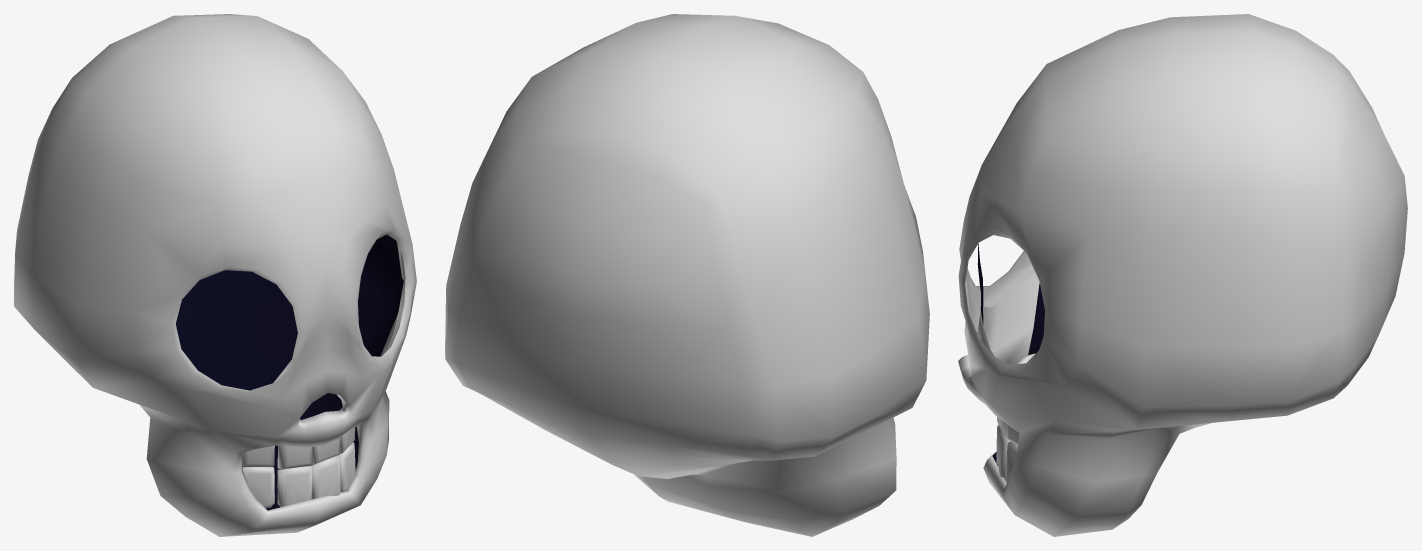
Rendered from skull.fbx.
The picture shows the model from 3 angles, left to right: view 1: azimuth 30°, elevation 25°; view 2: azimuth 150°, elevation 25°; view 3: azimuth 270°, elevation 25°; orthographic projection. The views are drawn at different scales.
Visible parts, largest first — view 1: skull; view 2: skull; view 3: skull.
Part boxes in pixels (left/top/right/bottom): skull: left=14, top=14, right=416, bottom=536; skull: left=445, top=14, right=929, bottom=536; skull: left=958, top=14, right=1407, bottom=536.
Bounding box in the file's own units: 86.59 × 107 × 92.48.
